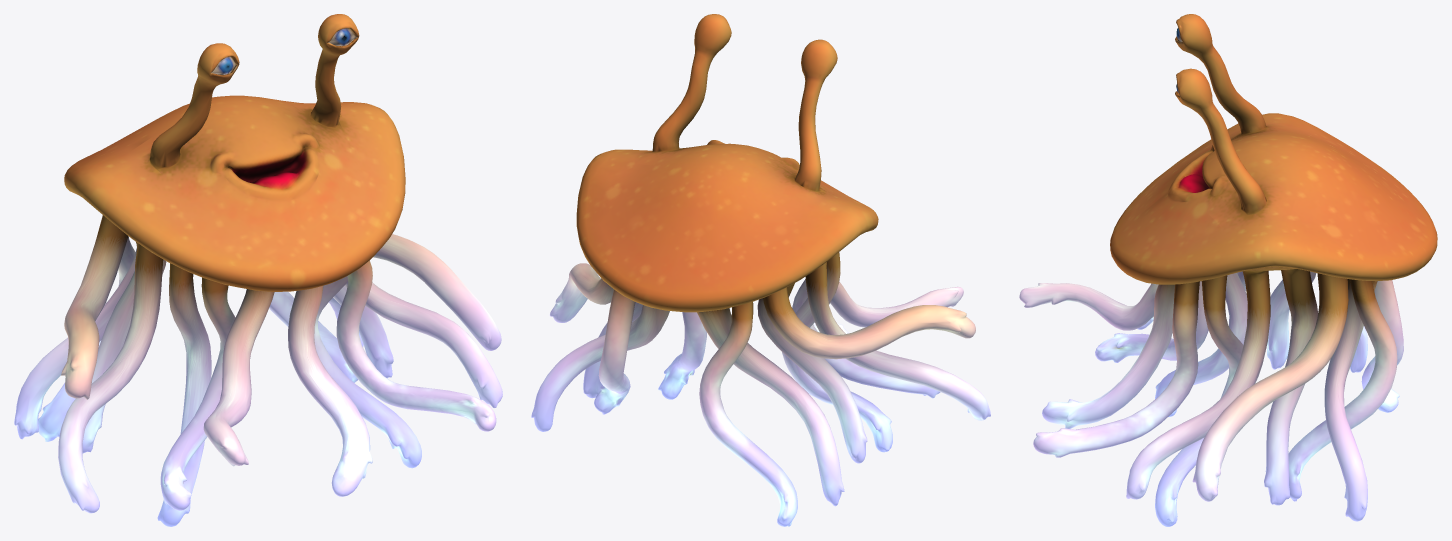
Rendered from MZ4250 - Flumph_2025.glb.
3 renders of one model, left to right at view 1: azimuth 30°, elevation 25°; view 2: azimuth 150°, elevation 25°; view 3: azimuth 270°, elevation 25°, orthographic. The views are drawn at different scales.
Visible parts, largest first — view 1: ORGANIC BASE SPHERE.001; view 2: ORGANIC BASE SPHERE.001; view 3: ORGANIC BASE SPHERE.001.
Boxes of the visible parts, x1,y1,x2,y2 form: ORGANIC BASE SPHERE.001: (14, 14, 502, 526); ORGANIC BASE SPHERE.001: (531, 14, 990, 526); ORGANIC BASE SPHERE.001: (1019, 14, 1437, 526).
Size of the model in its own units: 64.09 by 60.48 by 53.57.
1 material, 1 textured.
